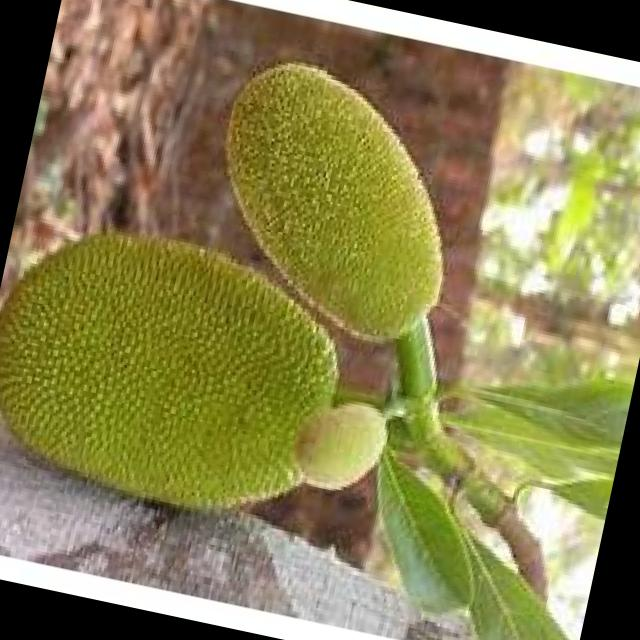Fruit: (0, 178, 388, 563), (164, 32, 503, 378)
